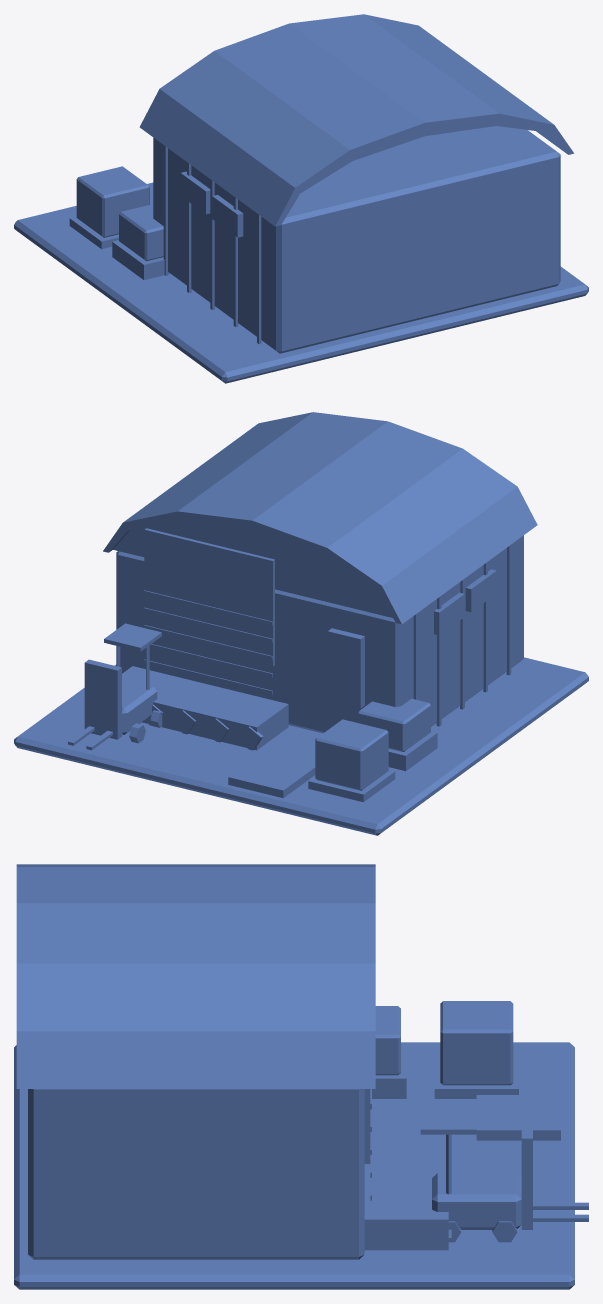
The picture shows the model from 3 angles, top to bottom: view 1: azimuth 30°, elevation 25°; view 2: azimuth 150°, elevation 25°; view 3: azimuth 270°, elevation 25°; orthographic projection. The views are drawn at different scales.
Parts seen in each view (by area): view 1: corpo; view 2: corpo; view 3: corpo.
Boxes of the visible parts, left/top/right/bottom form: corpo: left=14, top=14, right=588, bottom=383; corpo: left=14, top=412, right=588, bottom=835; corpo: left=14, top=864, right=588, bottom=1289.
Bounding box in the file's own units: 2 × 1.11 × 2.05.
